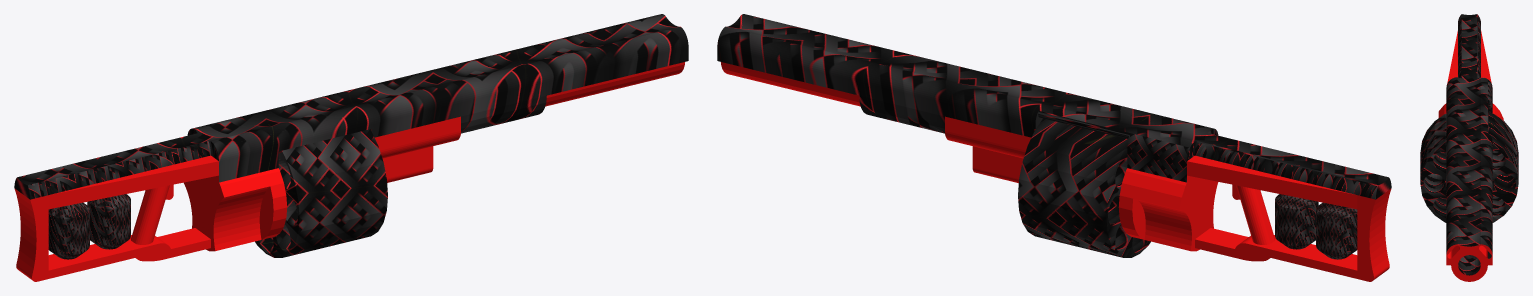
Rendered from Lanzagranadas_steelred.FBX.
3 renders of one model, left to right at view 1: azimuth 30°, elevation 25°; view 2: azimuth 150°, elevation 25°; view 3: azimuth 270°, elevation 25°, orthographic. The views are drawn at different scales.
Visible parts, largest first — view 1: Skin, Group1, Cargador, Etiqueta; view 2: Skin, Group1, Cargador; view 3: Skin, Cargador, Group1.
Boxes of the visible parts, left/top/right/bottom form: Skin: left=14, top=14, right=688, bottom=259; Group1: left=14, top=62, right=684, bottom=281; Cargador: left=255, top=129, right=387, bottom=257; Etiqueta: left=48, top=161, right=218, bottom=209; Skin: left=717, top=14, right=1391, bottom=259; Group1: left=721, top=62, right=1391, bottom=281; Cargador: left=1018, top=118, right=1150, bottom=257; Skin: left=1446, top=14, right=1492, bottom=275; Cargador: left=1420, top=112, right=1518, bottom=222; Group1: left=1438, top=31, right=1503, bottom=281.
Bounding box in the file's own units: 8.05 × 1.58 × 1.44.
Materials: 2 (1 with a texture image).
